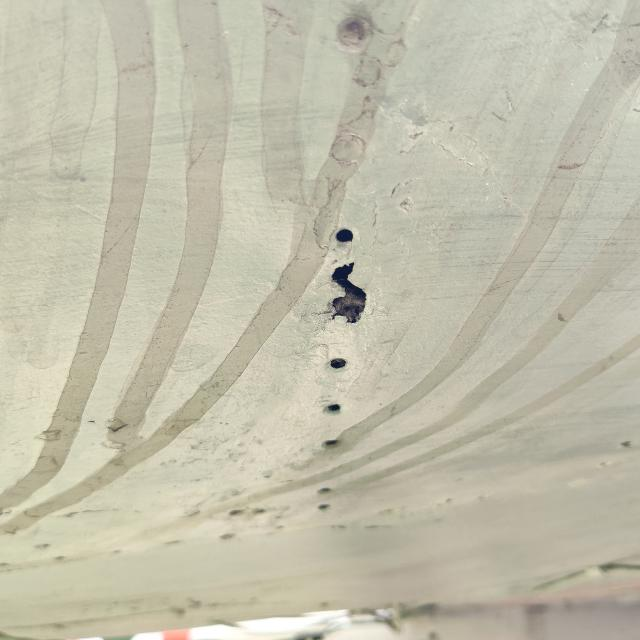crack: (294, 247, 390, 350)
